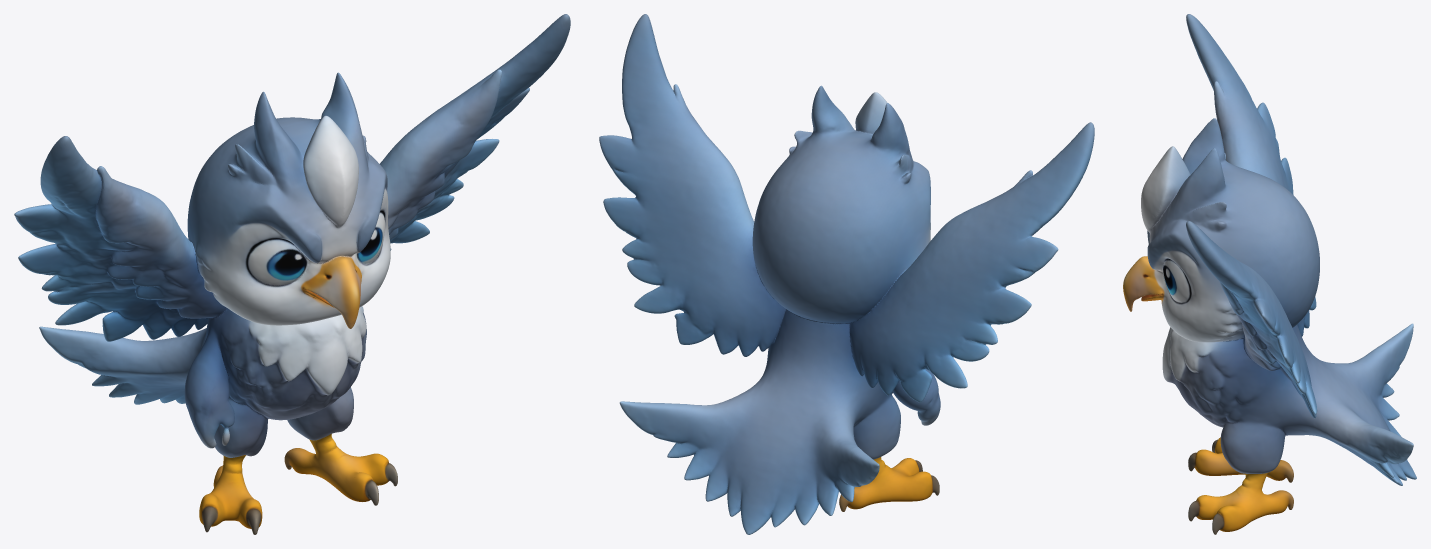
The model's file is BOSS_THUNDER_PENG_01.glb.
3 renders of one model, left to right at view 1: azimuth 30°, elevation 25°; view 2: azimuth 150°, elevation 25°; view 3: azimuth 270°, elevation 25°, orthographic. The views are drawn at different scales.
Visible parts, largest first — view 1: model; view 2: model; view 3: model.
Part boxes in pixels (bbox=[...]): model: bbox=[14, 14, 570, 534]; model: bbox=[599, 14, 1094, 534]; model: bbox=[1123, 14, 1416, 534].
Size of the model in its own units: 1.9 by 1.57 by 1.1.
1 material, 1 textured.
